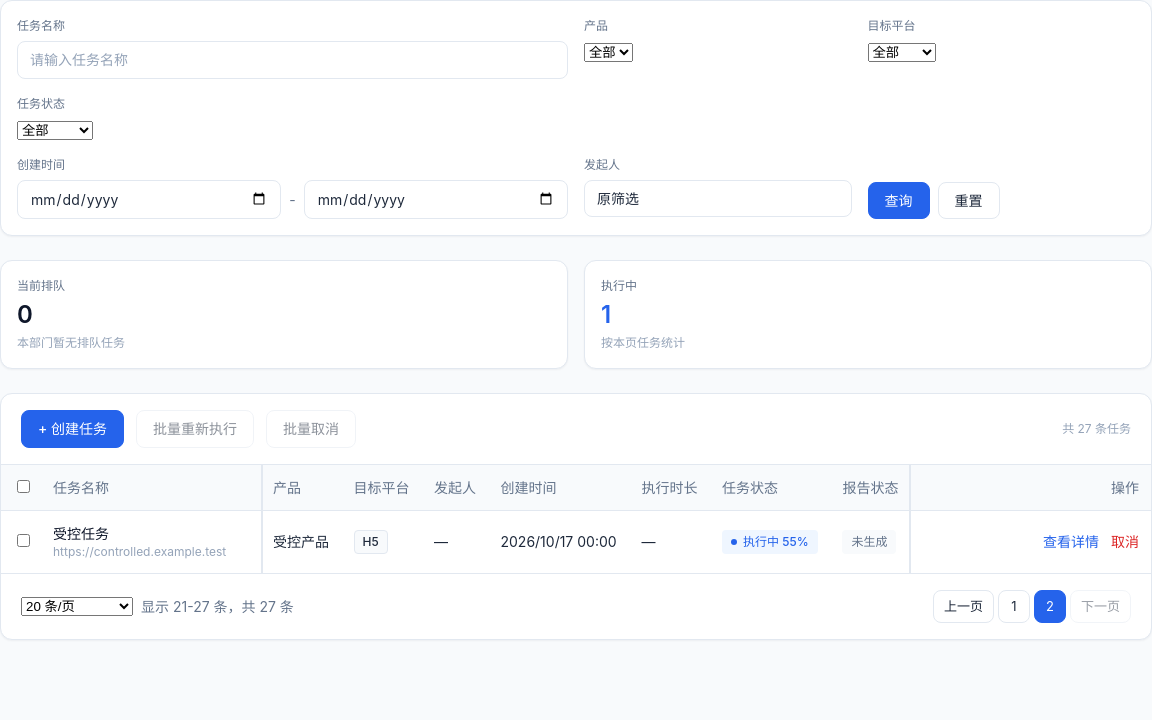
Test: 稳定复现：旧筛选迟到不能覆盖新查询
Replace the text in the field with test id "task-filter-submitter" with "旧查询". click: [718, 198]
box: [584, 180, 852, 217]
Wait 300 ms
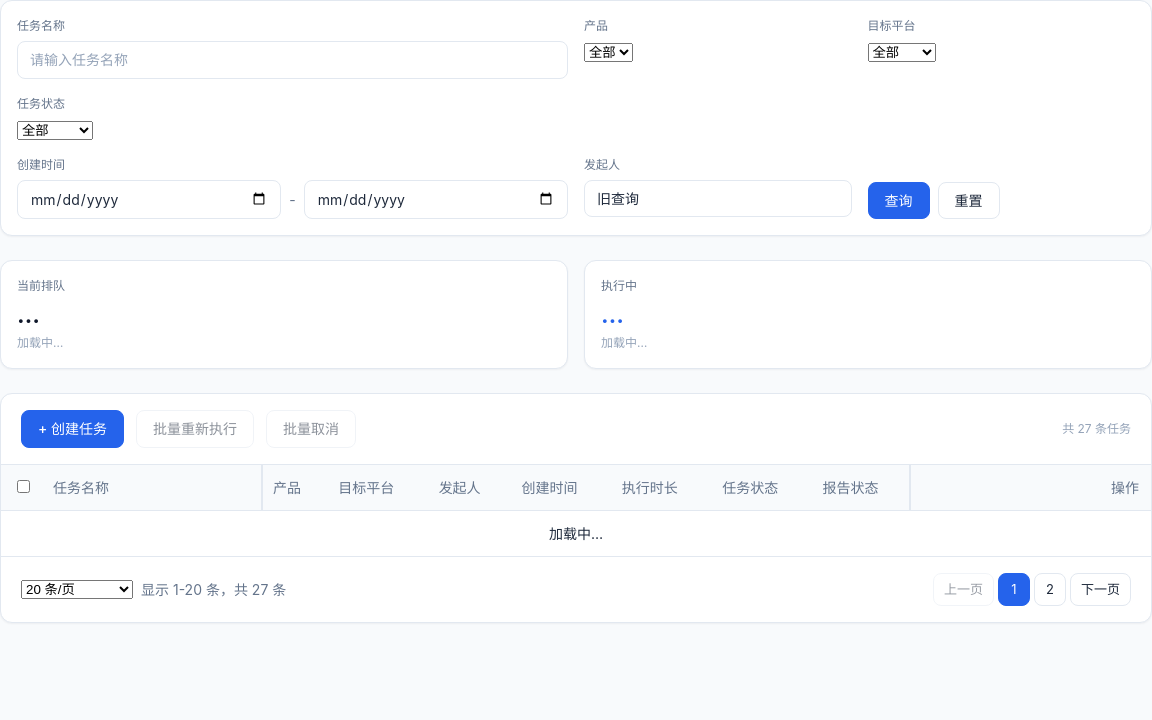
Replace the text in the field with test id "task-filter-submitter" with "新查询". click: [718, 198]
box: [584, 180, 852, 217]
Wait 300 ms
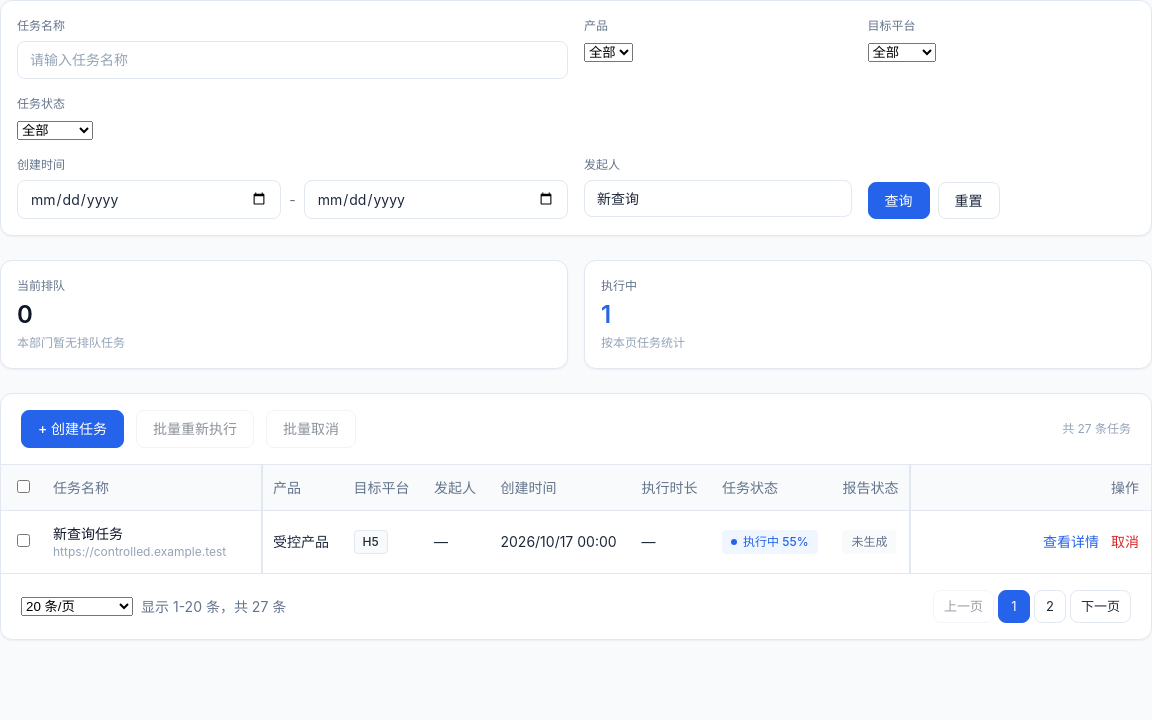
Check: the text "新查询任务" is shown, box [53, 523, 123, 543]
